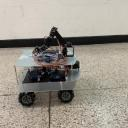cart: (13, 49, 81, 107)
